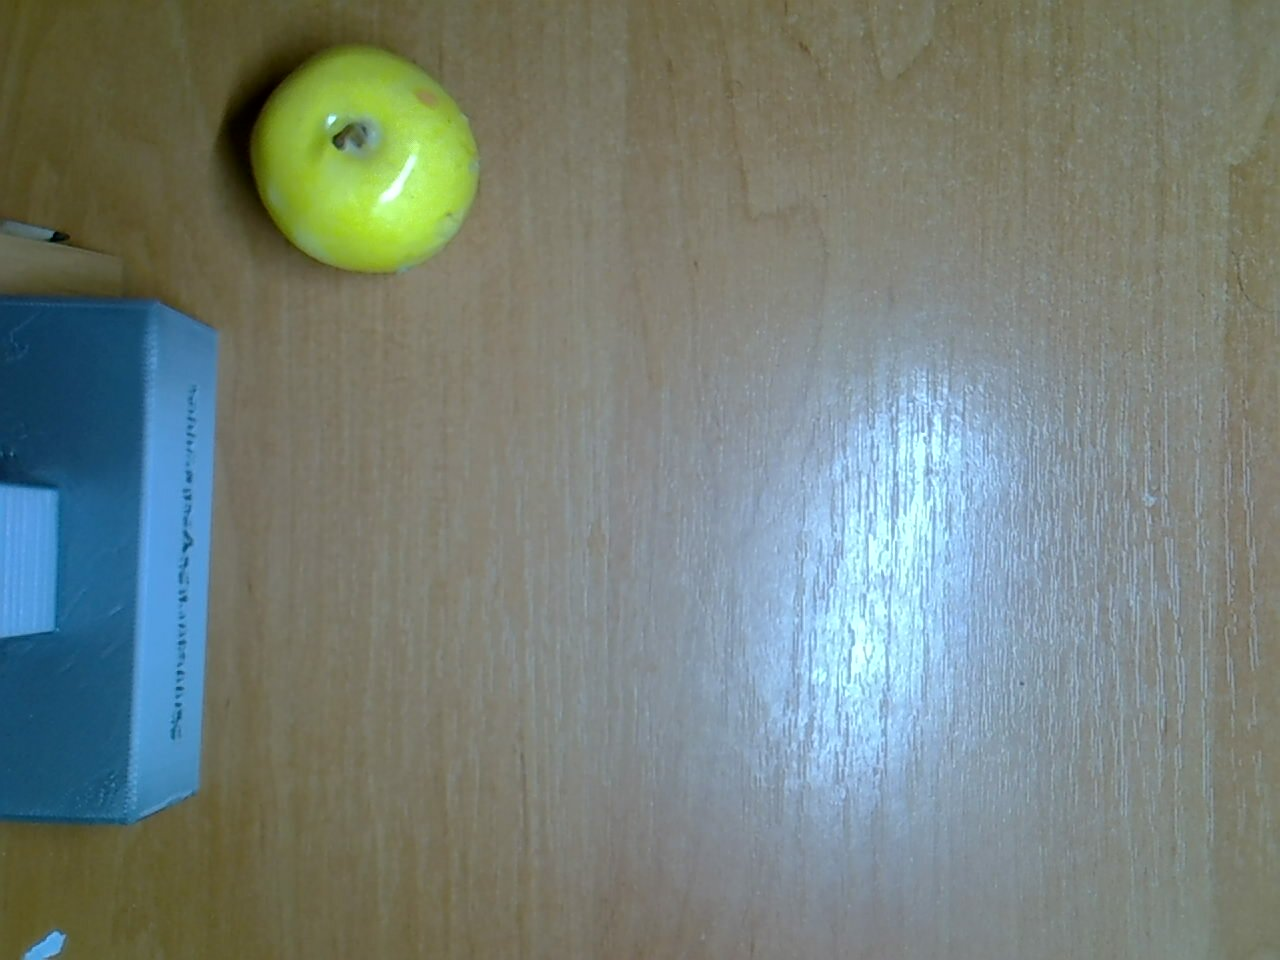apple: (234, 37, 491, 276)
